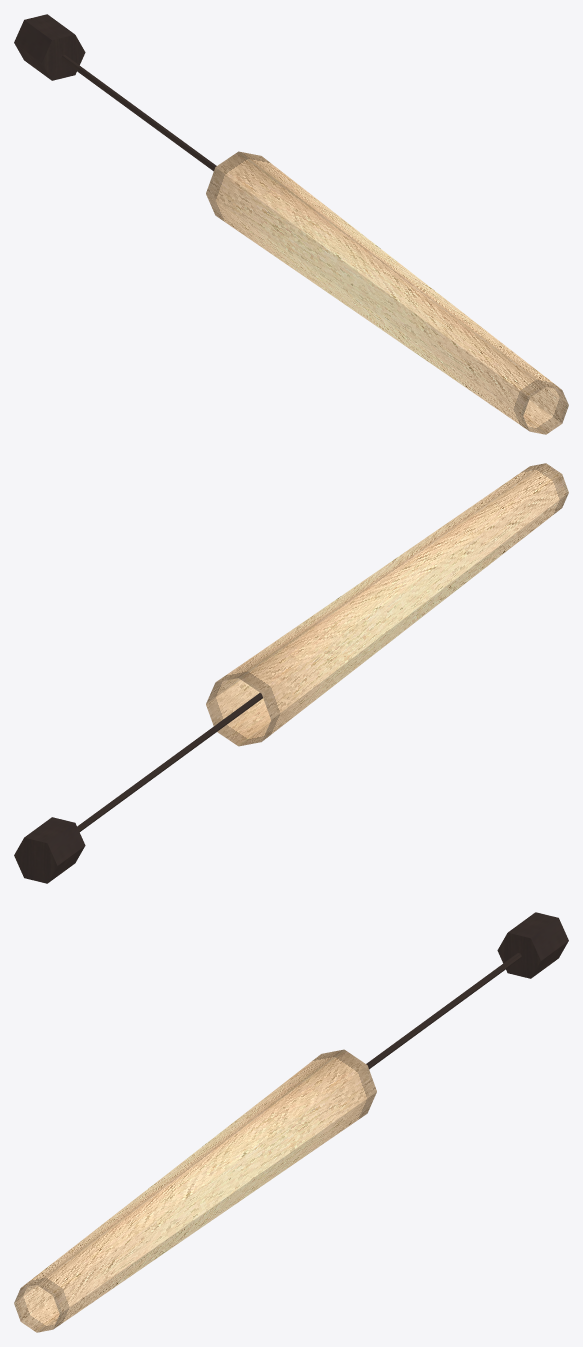
Rendered from psx-table-lamp-bc1a97.glb.
3 renders of one model, top to bottom at view 1: azimuth 30°, elevation 25°; view 2: azimuth 150°, elevation 25°; view 3: azimuth 330°, elevation 25°, orthographic.
Parts seen in each view (by area): view 1: PropMesh; view 2: PropMesh; view 3: PropMesh.
Boxes of the visible parts, bbox=[...] form: PropMesh: bbox=[14, 14, 568, 434]; PropMesh: bbox=[14, 463, 568, 883]; PropMesh: bbox=[14, 912, 568, 1332].
Bounding box in the file's own units: 2.2 × 2.2 × 29.74.
2 materials, 2 textured.
